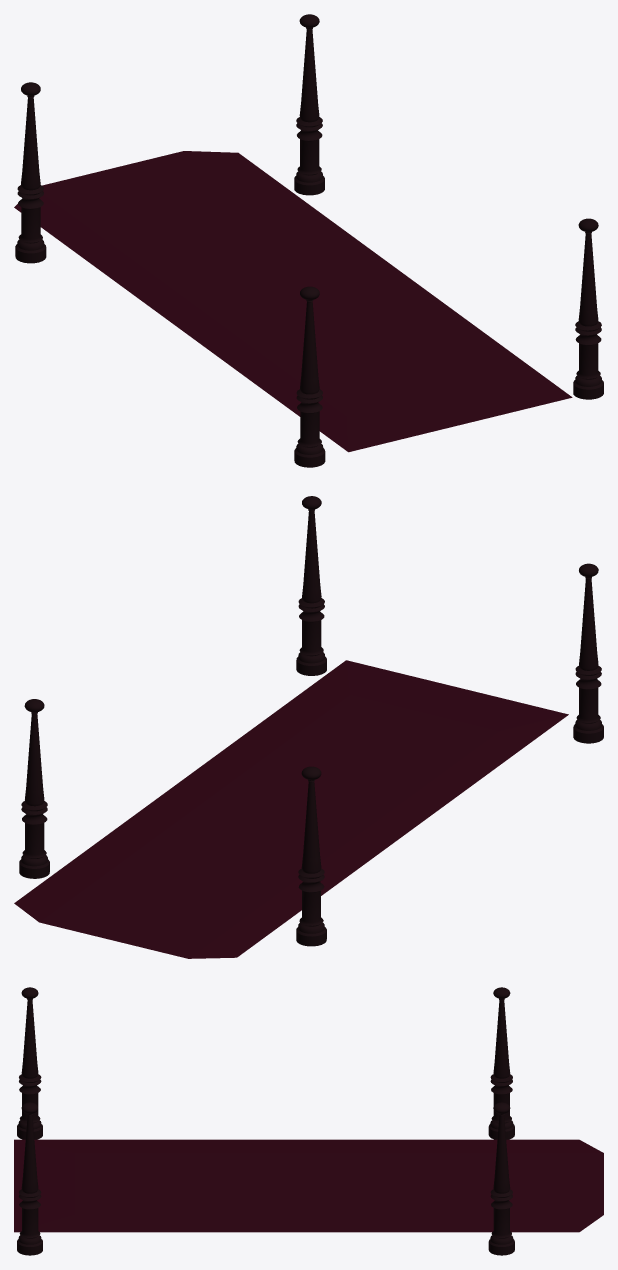
File: Comb Teppich_Pfosten.fbx
The picture shows the model from 3 angles, top to bottom: view 1: azimuth 30°, elevation 25°; view 2: azimuth 150°, elevation 25°; view 3: azimuth 270°, elevation 25°; orthographic projection. The views are drawn at different scales.
Parts seen in each view (by area): view 1: Pfosten1:polySurface2; view 2: Pfosten1:polySurface2; view 3: Pfosten1:polySurface2.
Part boxes in pixels (x1=…): Pfosten1:polySurface2: x1=14, y1=14, x2=603, y2=467; Pfosten1:polySurface2: x1=14, y1=496, x2=603, y2=958; Pfosten1:polySurface2: x1=14, y1=987, x2=603, y2=1255.
Size of the model in its own units: 217 by 117 by 428.
